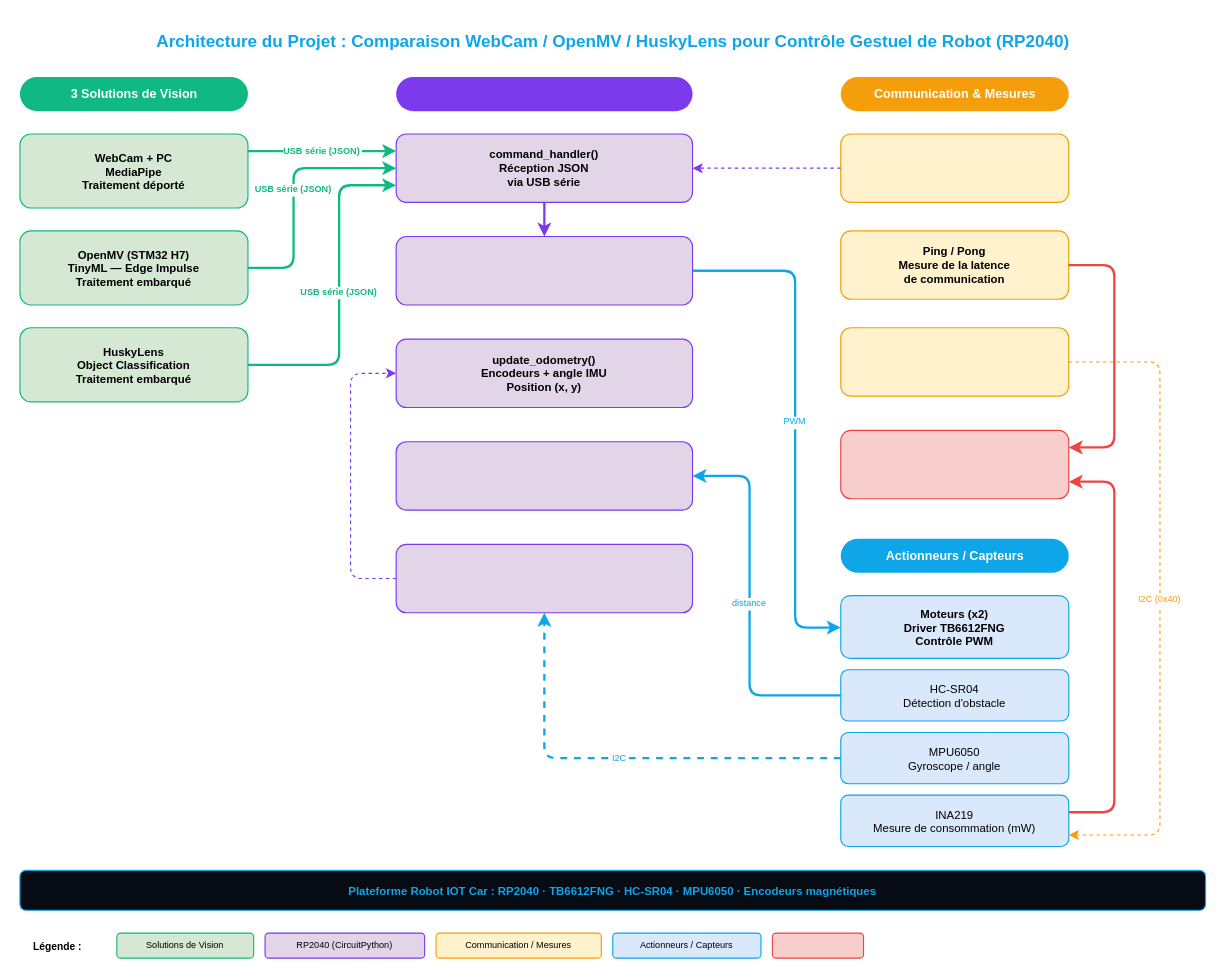
This 1226x978 diagram has some shape labels left out. The shapes that lost their labels are listed below. From the top down, each one's centre as x and y in pixels, then its label:
point 544,93: RP2040 — Robot (CircuitPython)
point 954,167: Protocole JSON {"cmd": ...} Renvoi périodique 150 ms
point 544,270: control_loop() Pilotage moteurs selon le mode courant
point 954,361: Bus I2C partagé MPU6050 (0x68) INA219 (0x40)
point 544,475: Lecture HC-SR04 Distance obstacle (cm)
point 954,464: Scripts de benchmark Latence, FPS, Fiabilité, Conso Export CSV / Excel
point 544,578: calibrate_gyro_bias() Calibration MPU6050 au démarrage
point 817,945: Benchmark
